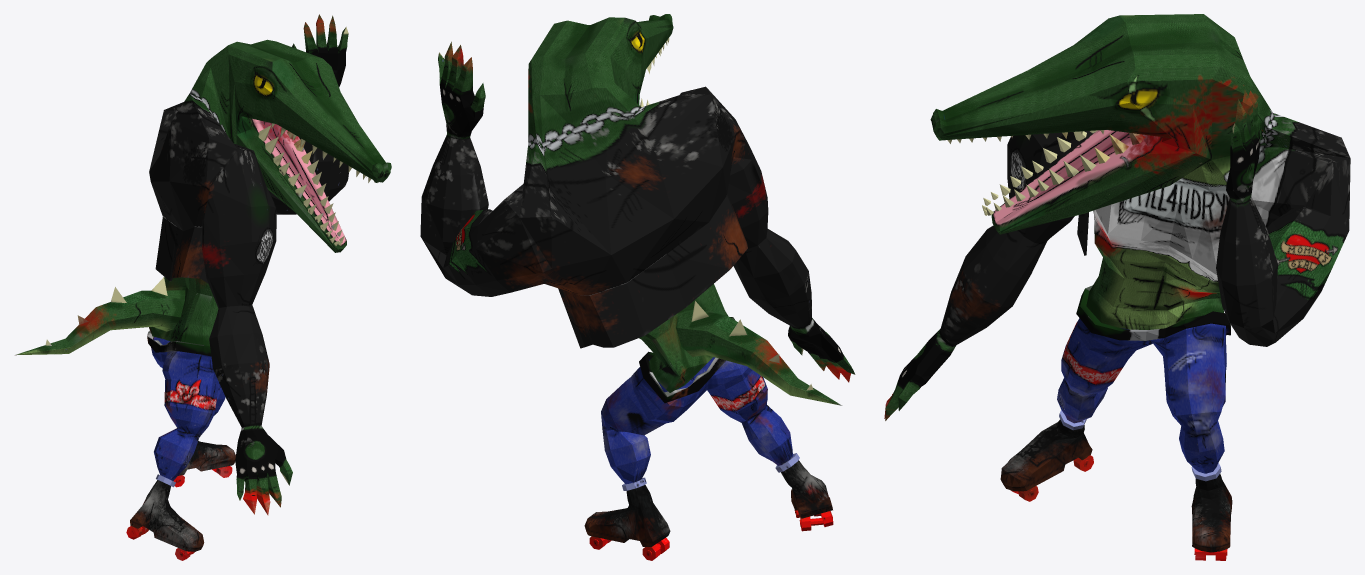
File: cocodrilaBonesSelect_000028.obj
The picture shows the model from 3 angles, left to right: view 1: azimuth 30°, elevation 25°; view 2: azimuth 150°, elevation 25°; view 3: azimuth 270°, elevation 25°; orthographic projection. The views are drawn at different scales.
Visible parts, largest first — view 1: Crocodile.002_Cylinder.002; view 2: Crocodile.002_Cylinder.002; view 3: Crocodile.002_Cylinder.002.
Boxes of the visible parts, <box> form: Crocodile.002_Cylinder.002: <box>14,14,391,560</box>; Crocodile.002_Cylinder.002: <box>420,14,855,560</box>; Crocodile.002_Cylinder.002: <box>884,14,1350,560</box>.
Size of the model in its own units: 5.22 by 6.21 by 4.7.
